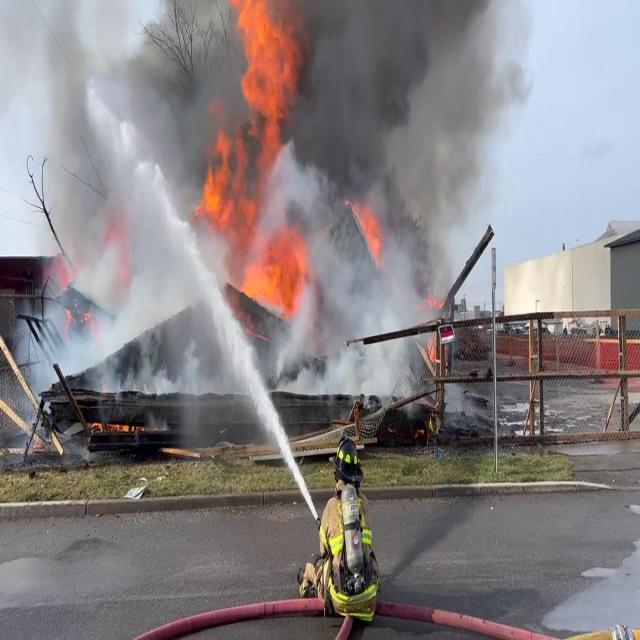Fire: (196, 1, 308, 300)
Smoke: (272, 1, 518, 378), (0, 0, 240, 355)
